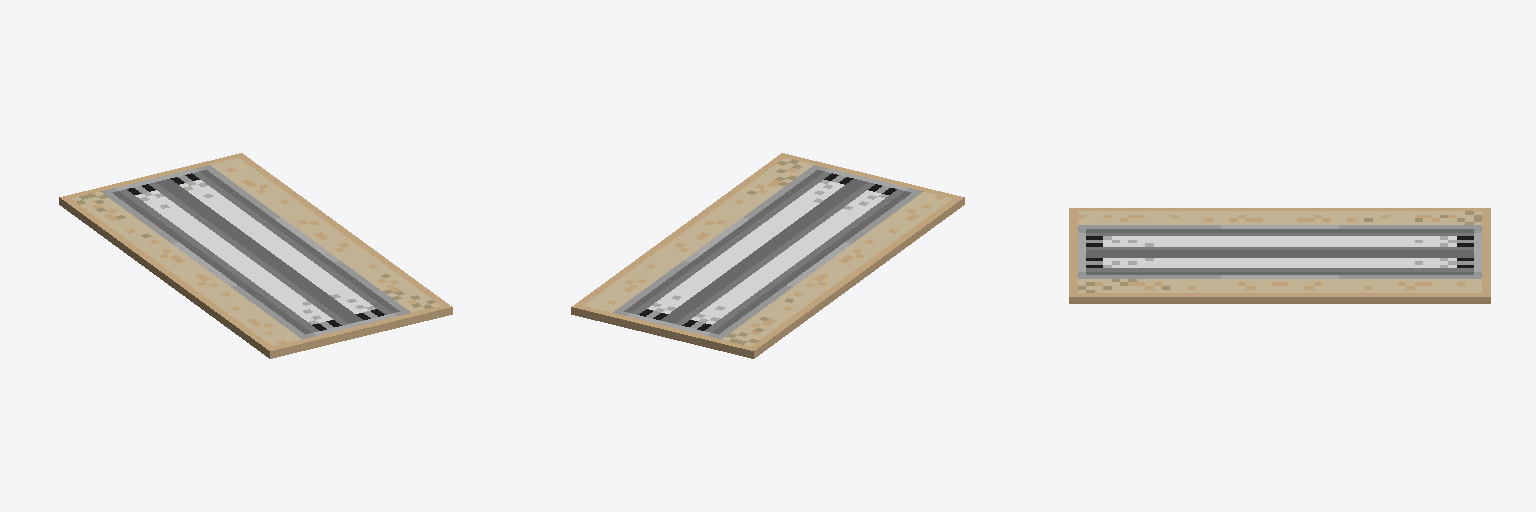
3 views of the same model, side by side, from view 1: azimuth 30°, elevation 25°; view 2: azimuth 150°, elevation 25°; view 3: azimuth 270°, elevation 25° (orthographic).
Bounding box in the file's own units: 25 × 1 × 50.
1 materials, 1 textured.